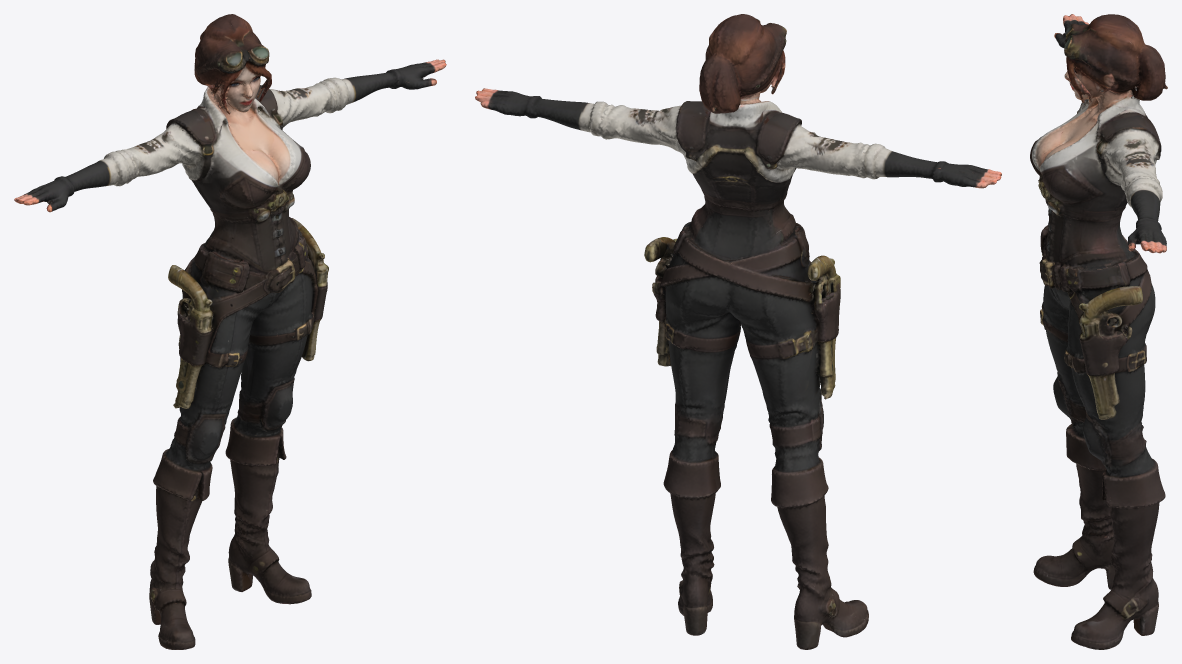
File: Meshy_AI_Steampunk_fighter_Pan_0106072935_texture.fbx
The picture shows the model from 3 angles, left to right: view 1: azimuth 30°, elevation 25°; view 2: azimuth 150°, elevation 25°; view 3: azimuth 270°, elevation 25°; orthographic projection. The views are drawn at different scales.
Parts seen in each view (by area): view 1: output; view 2: output; view 3: output.
Boxes of the visible parts, box(x1,y1,x2,y2) form: output: box(14, 14, 446, 649); output: box(475, 14, 1001, 649); output: box(1030, 14, 1167, 649).
Size of the model in its own units: 159 by 191 by 39.63.
1 material, 1 textured.
